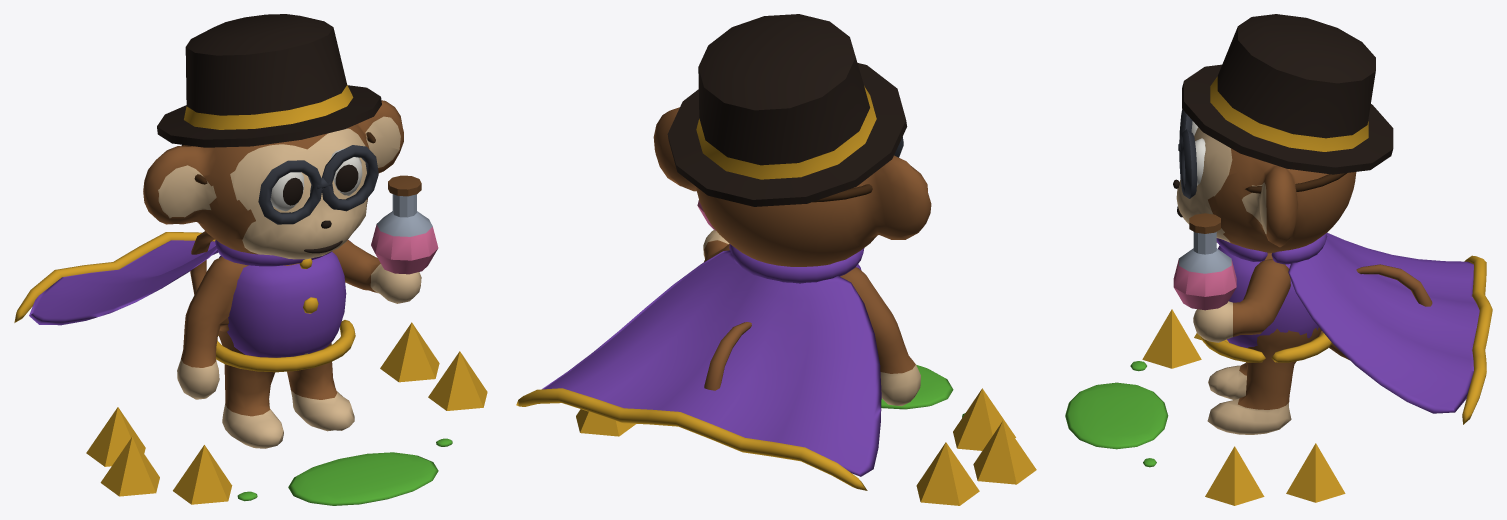
The picture shows the model from 3 angles, left to right: view 1: azimuth 30°, elevation 25°; view 2: azimuth 150°, elevation 25°; view 3: azimuth 270°, elevation 25°; orthographic projection. The views are drawn at different scales.
Parts seen in each view (by area): view 1: alquimista_3_cabeca, alquimista_1_corpo, alquimista_0_base, alquimista_4_braco, alquimista_2_cauda; view 2: alquimista_1_corpo, alquimista_3_cabeca, alquimista_0_base, alquimista_2_cauda, alquimista_4_braco; view 3: alquimista_3_cabeca, alquimista_1_corpo, alquimista_0_base, alquimista_4_braco, alquimista_2_cauda.
Part boxes in pixels (x1=…): alquimista_3_cabeca: x1=143, y1=14, x2=403, y2=259; alquimista_1_corpo: x1=14, y1=232, x2=355, y2=448; alquimista_0_base: x1=86, y1=322, x2=487, y2=505; alquimista_4_braco: x1=332, y1=175, x2=438, y2=303; alquimista_2_cauda: x1=190, y1=231, x2=215, y2=294; alquimista_1_corpo: x1=516, y1=244, x2=920, y2=490; alquimista_3_cabeca: x1=653, y1=14, x2=931, y2=266; alquimista_0_base: x1=576, y1=365, x2=1036, y2=505; alquimista_2_cauda: x1=704, y1=322, x2=751, y2=390; alquimista_4_braco: x1=697, y1=200, x2=729, y2=261; alquimista_3_cabeca: x1=1173, y1=14, x2=1393, y2=253; alquimista_1_corpo: x1=1200, y1=232, x2=1492, y2=434; alquimista_0_base: x1=1065, y1=309, x2=1345, y2=505; alquimista_4_braco: x1=1173, y1=213, x2=1290, y2=342; alquimista_2_cauda: x1=1318, y1=264, x2=1432, y2=360.
Size of the model in its own units: 1.17 by 1.17 by 1.16.
